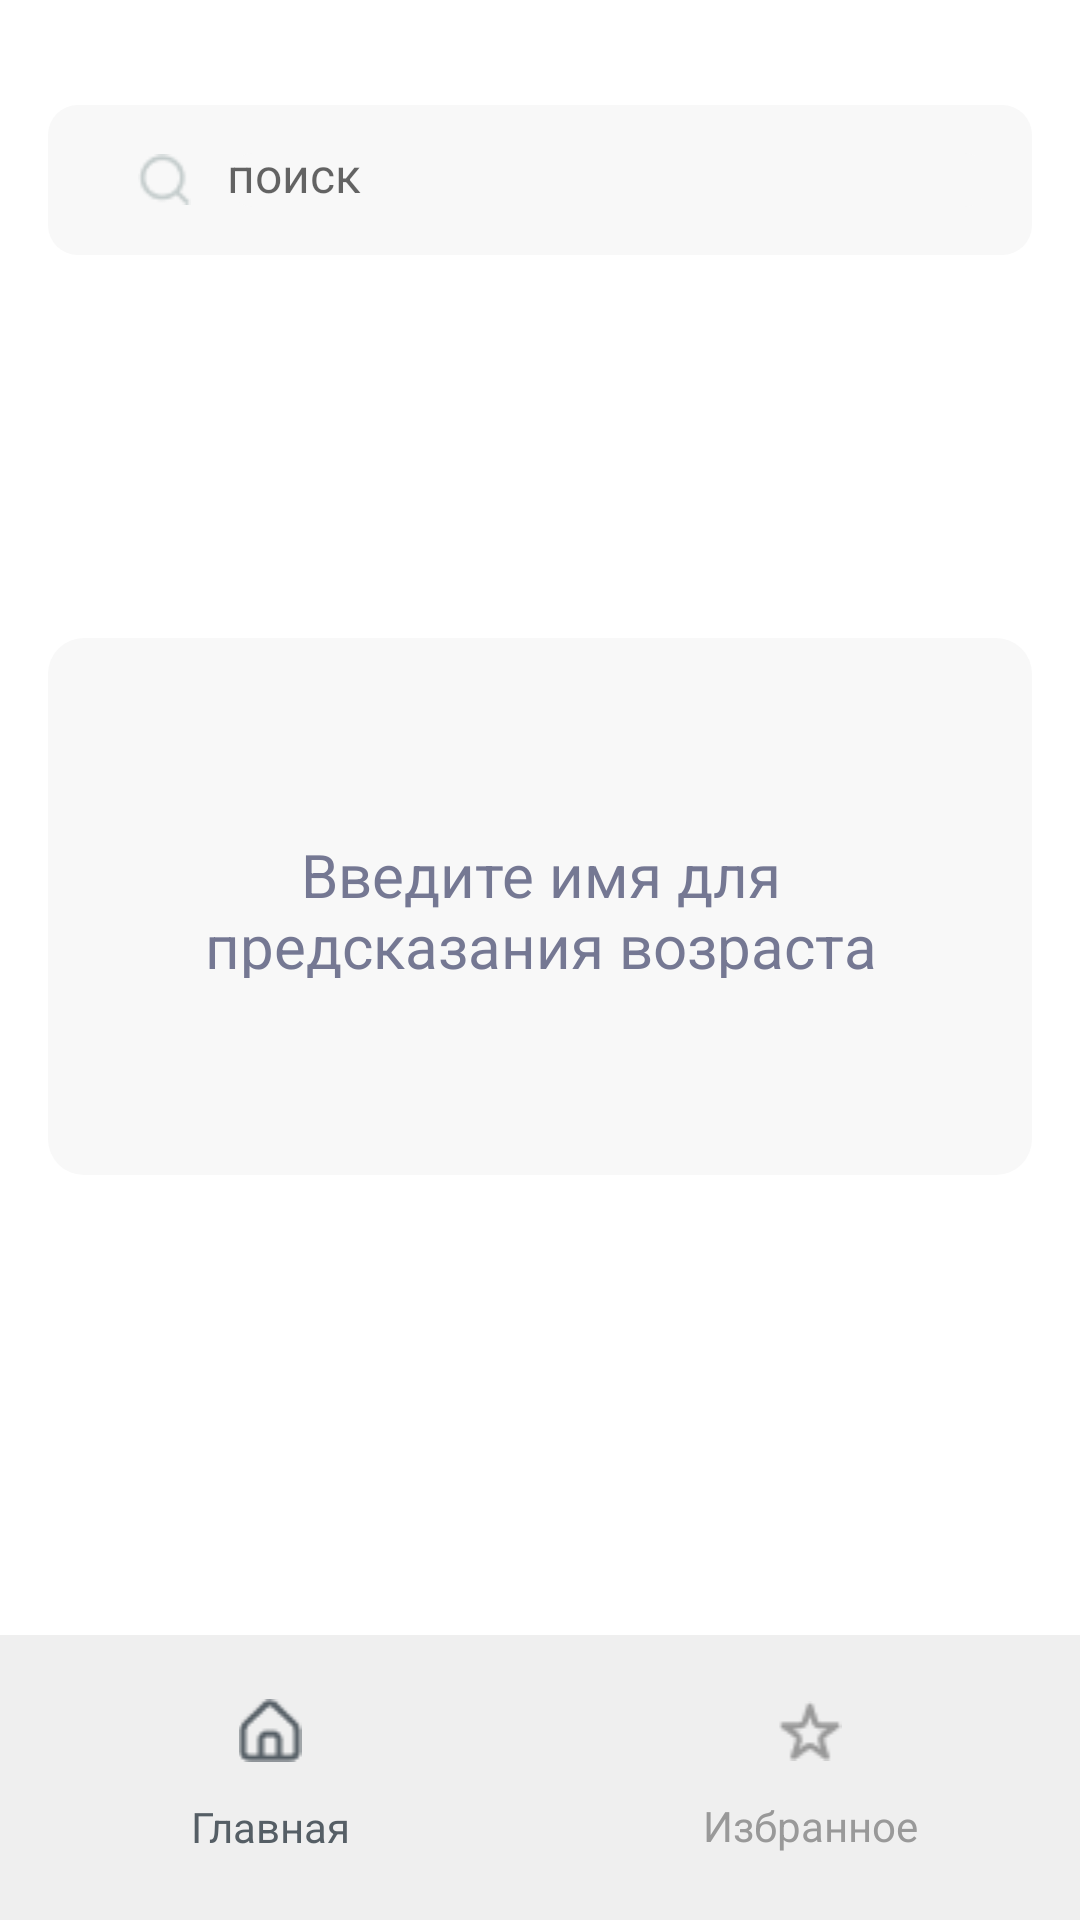

Named icons in this screenshot (1080px x 1920px) and their centers, (x,y):
im home: (270,1730)
im search: (164,179)
